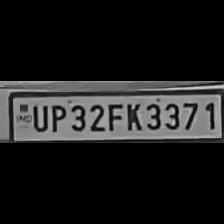1: (200, 99, 218, 129)
2: (88, 100, 104, 132)
3: (66, 102, 86, 132), (162, 99, 180, 130), (144, 100, 162, 130)
7: (180, 99, 198, 130)
F: (105, 100, 123, 132)
K: (122, 100, 142, 132)
P: (48, 102, 66, 132)
U: (28, 102, 48, 132)
